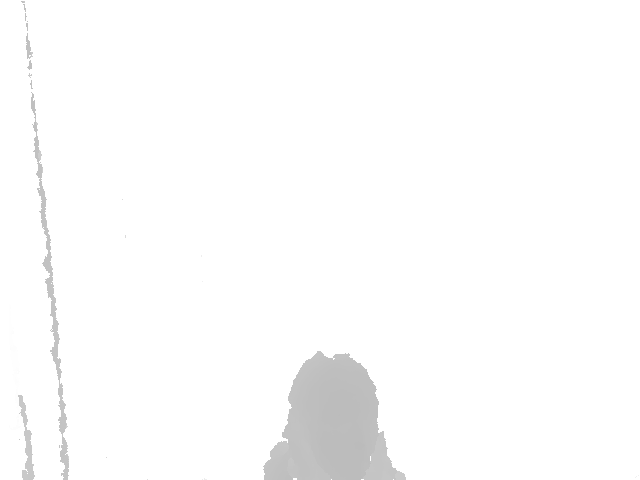head: (287, 351, 380, 480)
person: (262, 350, 408, 480)
